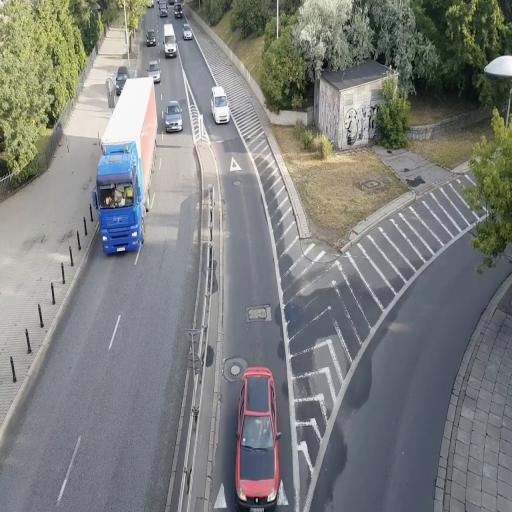vehicle: (95, 74, 158, 256), (236, 366, 279, 507), (210, 86, 230, 124), (164, 100, 184, 134), (162, 20, 177, 59), (114, 67, 129, 93), (148, 61, 162, 84), (182, 24, 193, 40)
